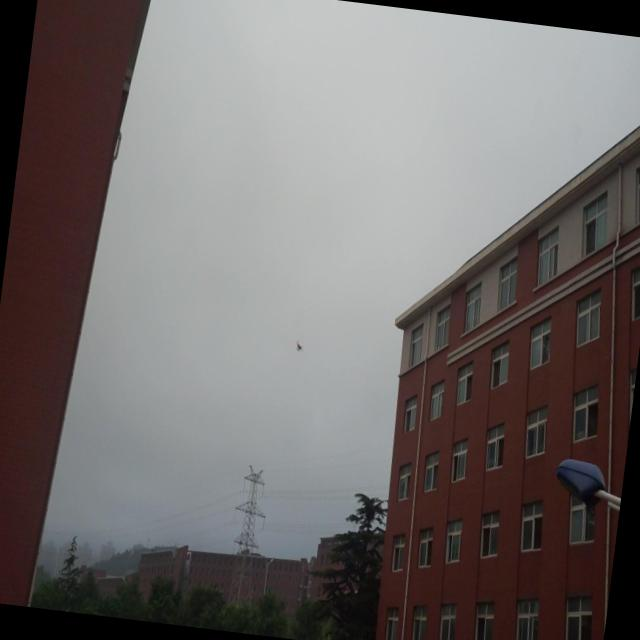drone: (291, 336, 306, 356)
